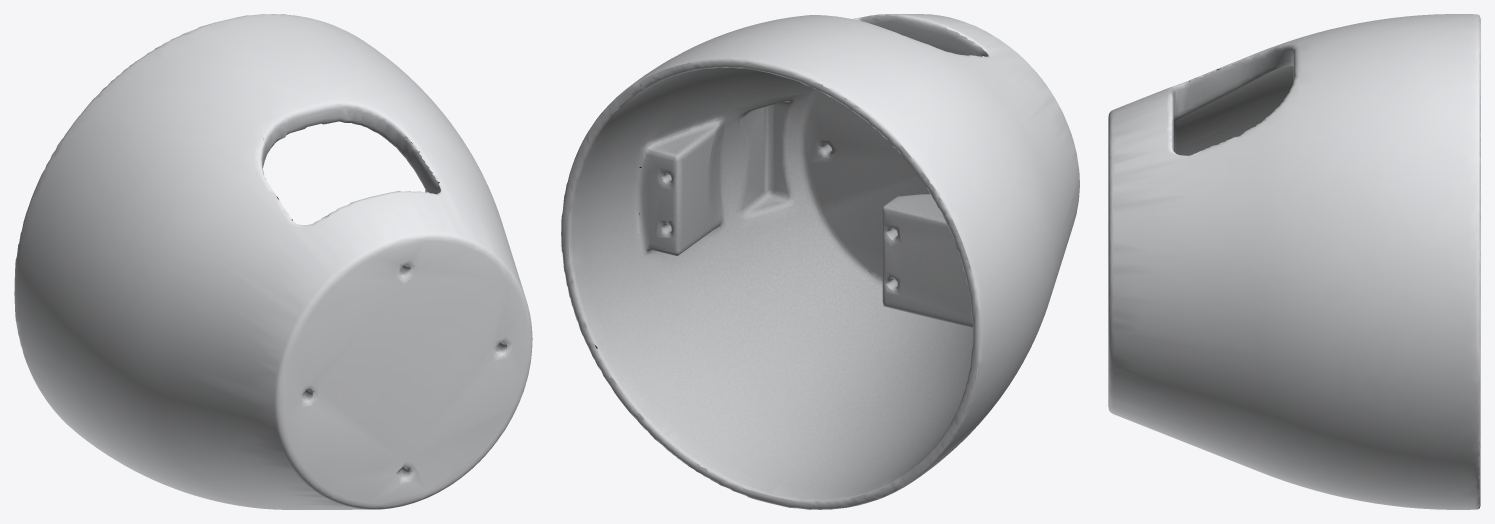
Rendered from left_elbow_to_forarm_upper.obj.
3 renders of one model, left to right at view 1: azimuth 30°, elevation 25°; view 2: azimuth 150°, elevation 25°; view 3: azimuth 270°, elevation 25°, orthographic.
Visible parts, largest first — view 1: left_elbow_to_forarm_upper; view 2: left_elbow_to_forarm_upper; view 3: left_elbow_to_forarm_upper.
Boxes of the visible parts, x1,y1,x2,y2 form: left_elbow_to_forarm_upper: [14, 14, 532, 509]; left_elbow_to_forarm_upper: [561, 14, 1079, 509]; left_elbow_to_forarm_upper: [1108, 14, 1480, 509].
Size of the model in its own units: 0.073 by 0.073 by 0.0548.
1 material, 1 textured.
